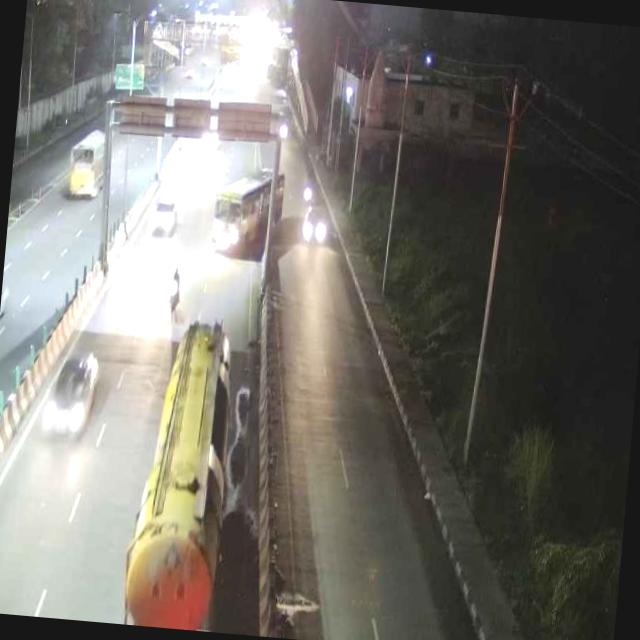car: (39, 342, 101, 439), (146, 190, 182, 240), (294, 200, 332, 244)
